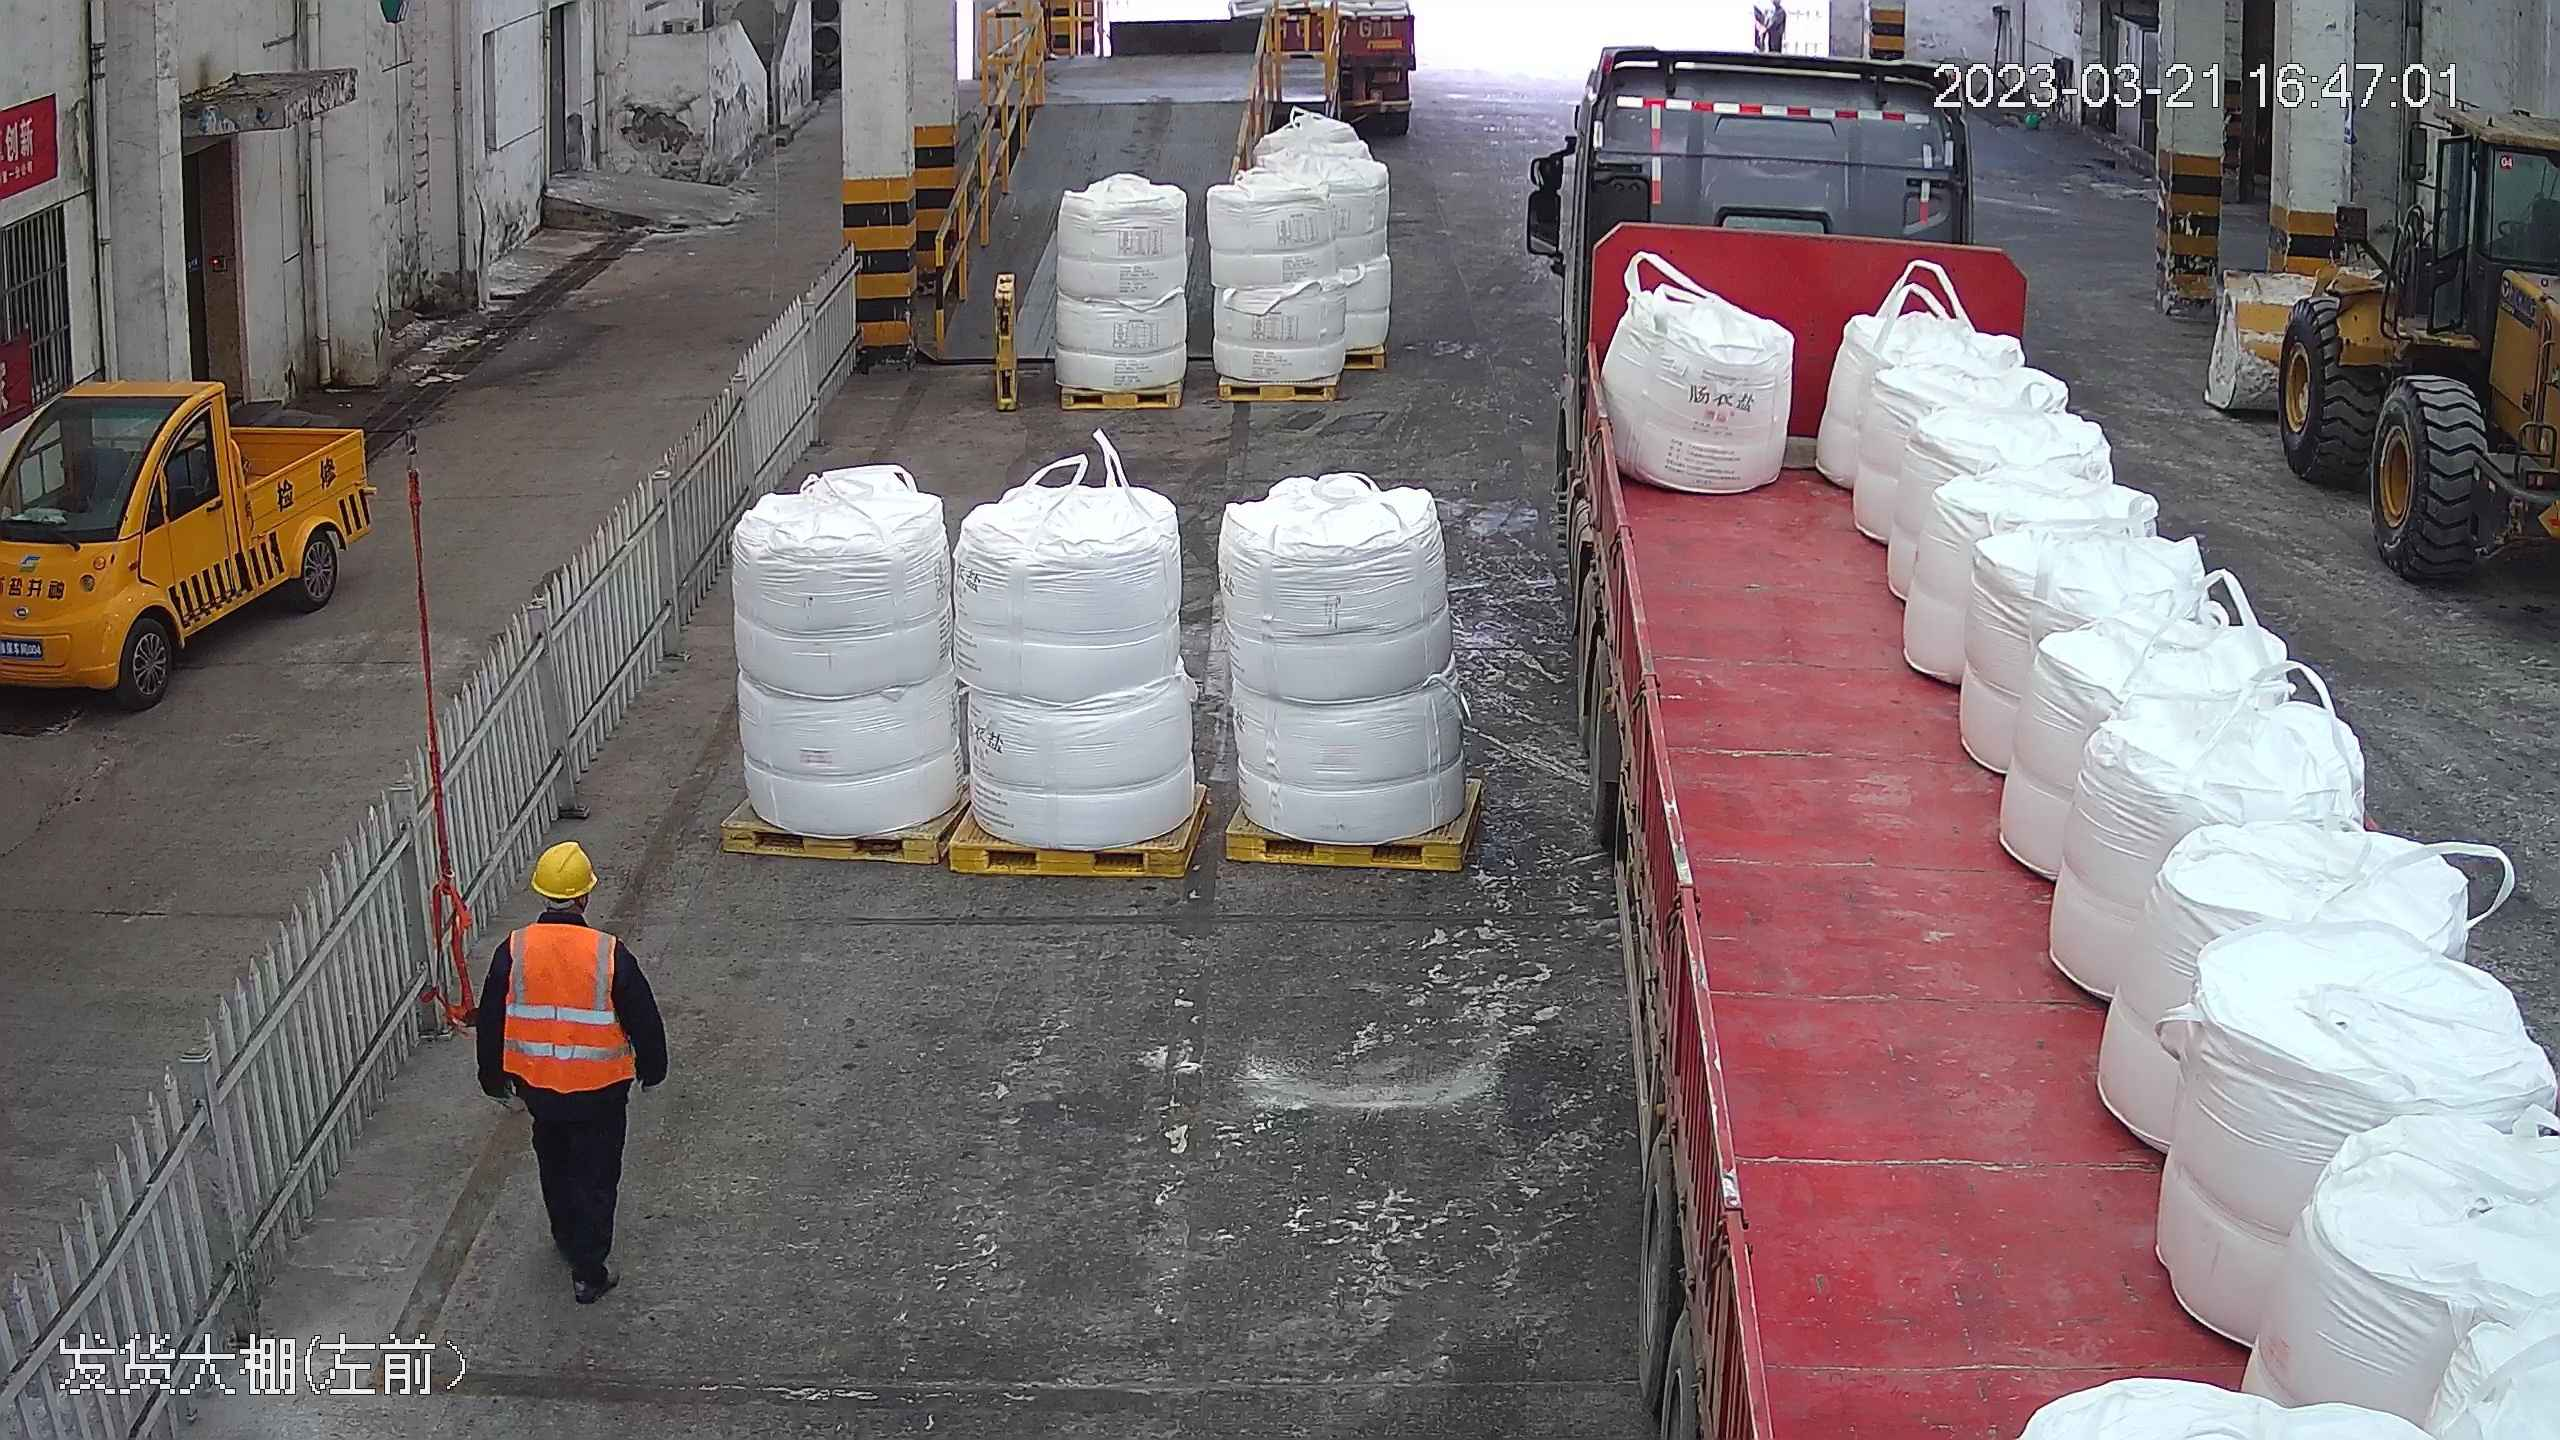head: (493, 835, 639, 990)
helmet: (528, 835, 601, 897)
people: (470, 830, 667, 1305)
truck: (1519, 23, 2560, 1440)
